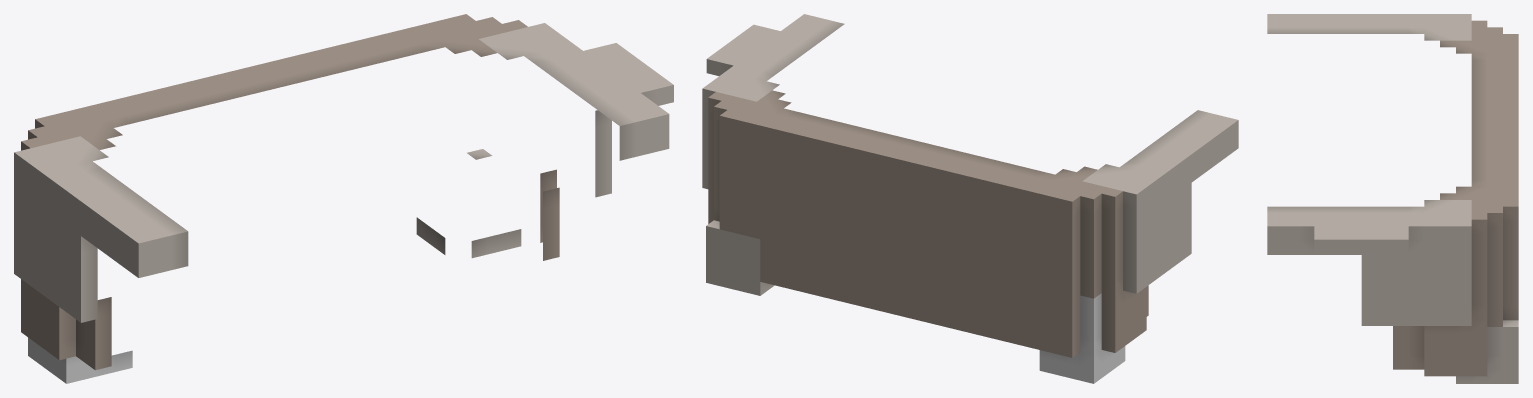
The model's file is hair_m_wild_loose.glb.
3 renders of one model, left to right at view 1: azimuth 30°, elevation 25°; view 2: azimuth 150°, elevation 25°; view 3: azimuth 270°, elevation 25°, orthographic. The views are drawn at different scales.
Visible parts, largest first — view 1: VoxelVisual; view 2: VoxelVisual; view 3: VoxelVisual.
Part boxes in pixels (x1,y1,x2,y2): VoxelVisual: [14, 14, 673, 383]; VoxelVisual: [702, 14, 1238, 383]; VoxelVisual: [1267, 14, 1518, 383].
Size of what is drawn, in the model's own units: 2.12 by 0.8125 by 1.
